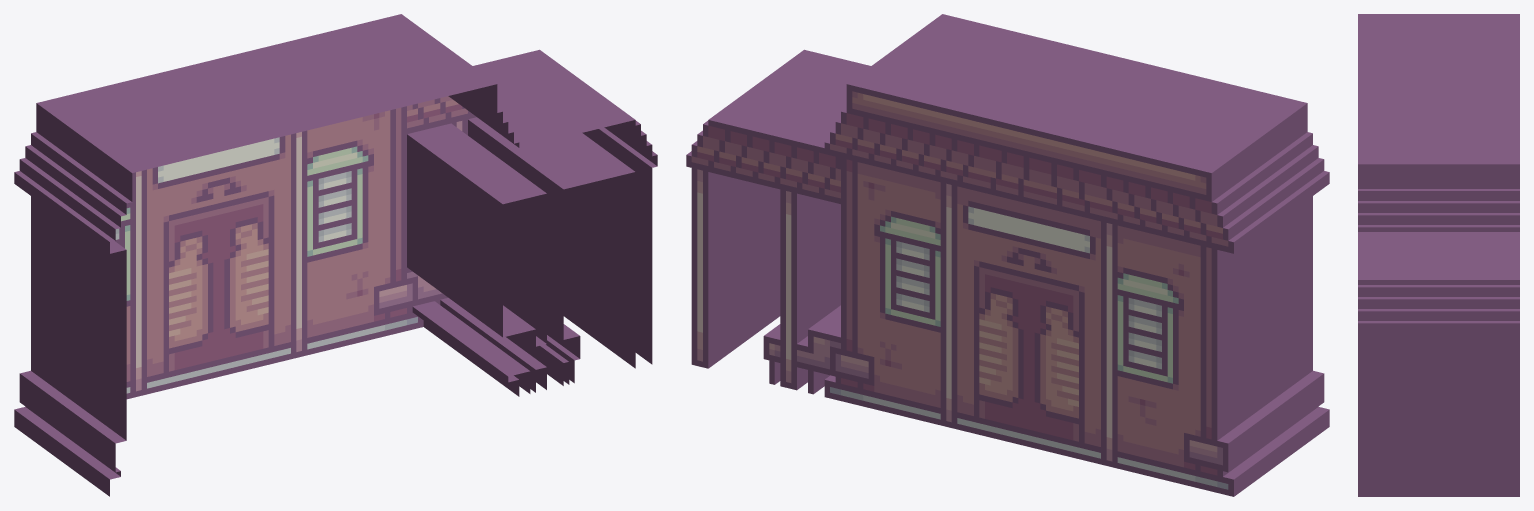
Rendered from Calico_Buildings_2.fbx.
3 views of the same model, side by side, from view 1: azimuth 30°, elevation 25°; view 2: azimuth 150°, elevation 25°; view 3: azimuth 270°, elevation 25° (orthographic). The views are drawn at different scales.
Parts seen in each view (by area): view 1: Calico_Building_2; view 2: Calico_Building_2; view 3: Calico_Building_2.
Boxes of the visible parts, x1=… form: Calico_Building_2: x1=14, y1=14, x2=657, y2=496; Calico_Building_2: x1=686, y1=14, x2=1329, y2=496; Calico_Building_2: x1=1358, y1=14, x2=1519, y2=496.
Size of the model in its own units: 188 by 619 by 344.
